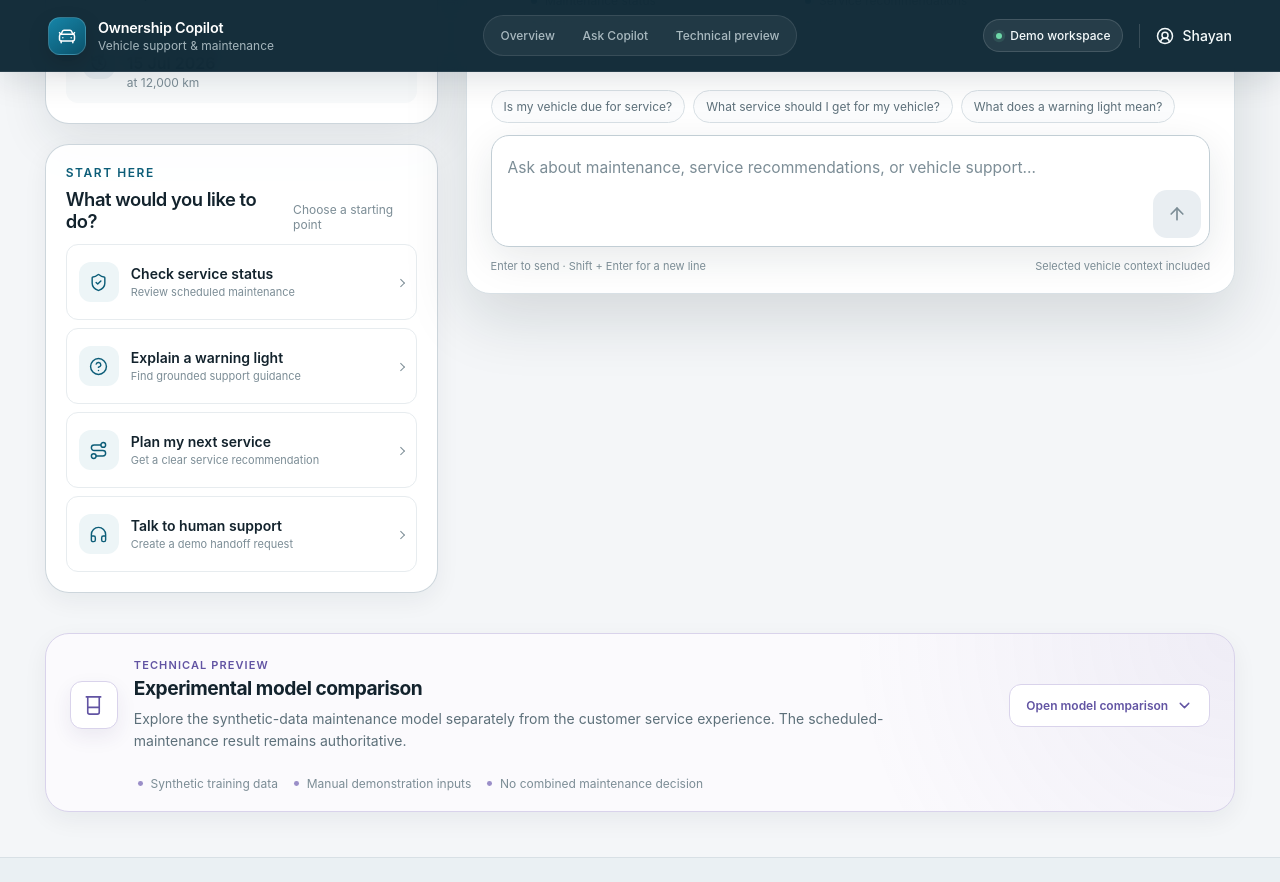
Test: App › uses the dedicated deterministic recommendation card
(page scrolled)
Click the button "Plan my next service Get a clear service recommendation".
click(241, 450)  # box [66, 412, 417, 488]
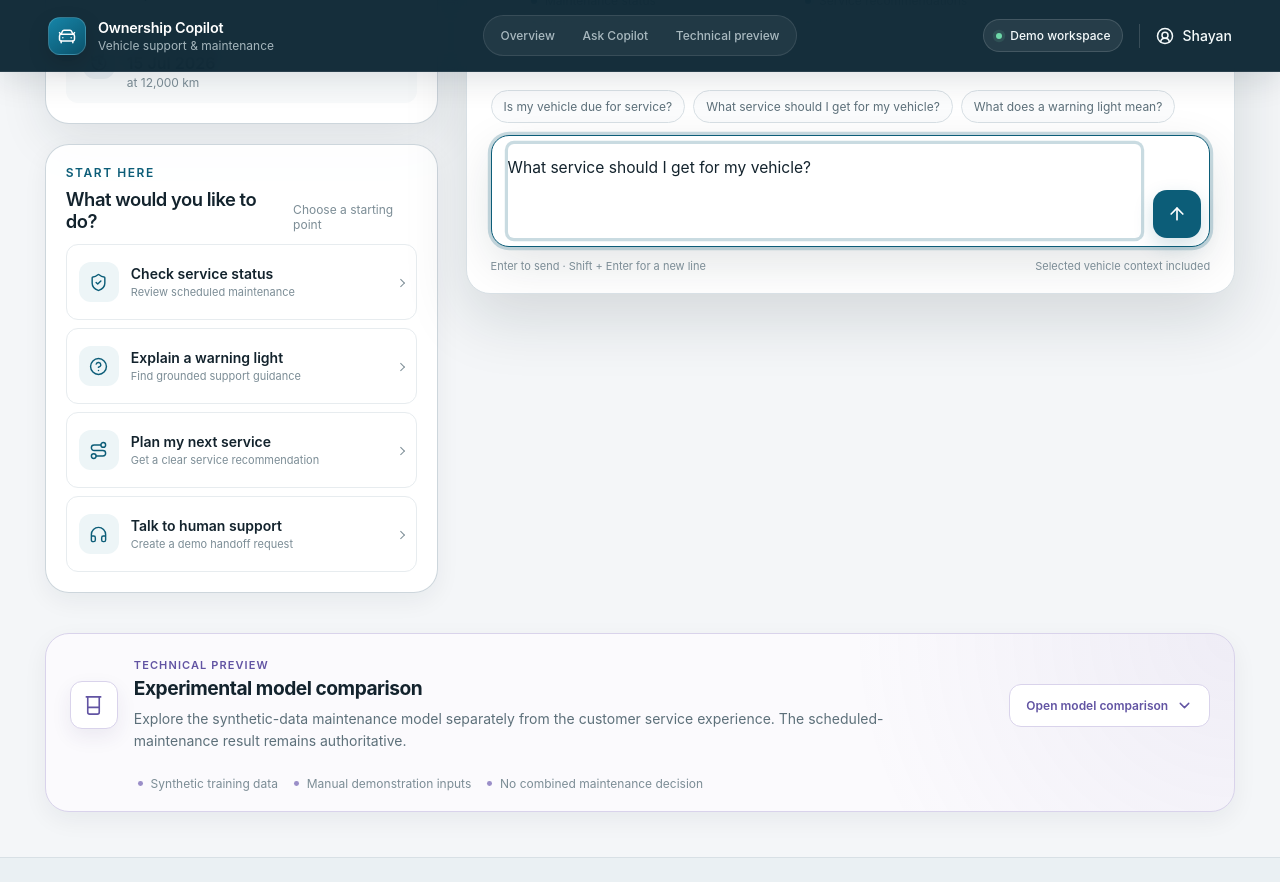
Click the button named "Send question".
click(1177, 214)  # box [1153, 190, 1201, 238]
(page scrolled)
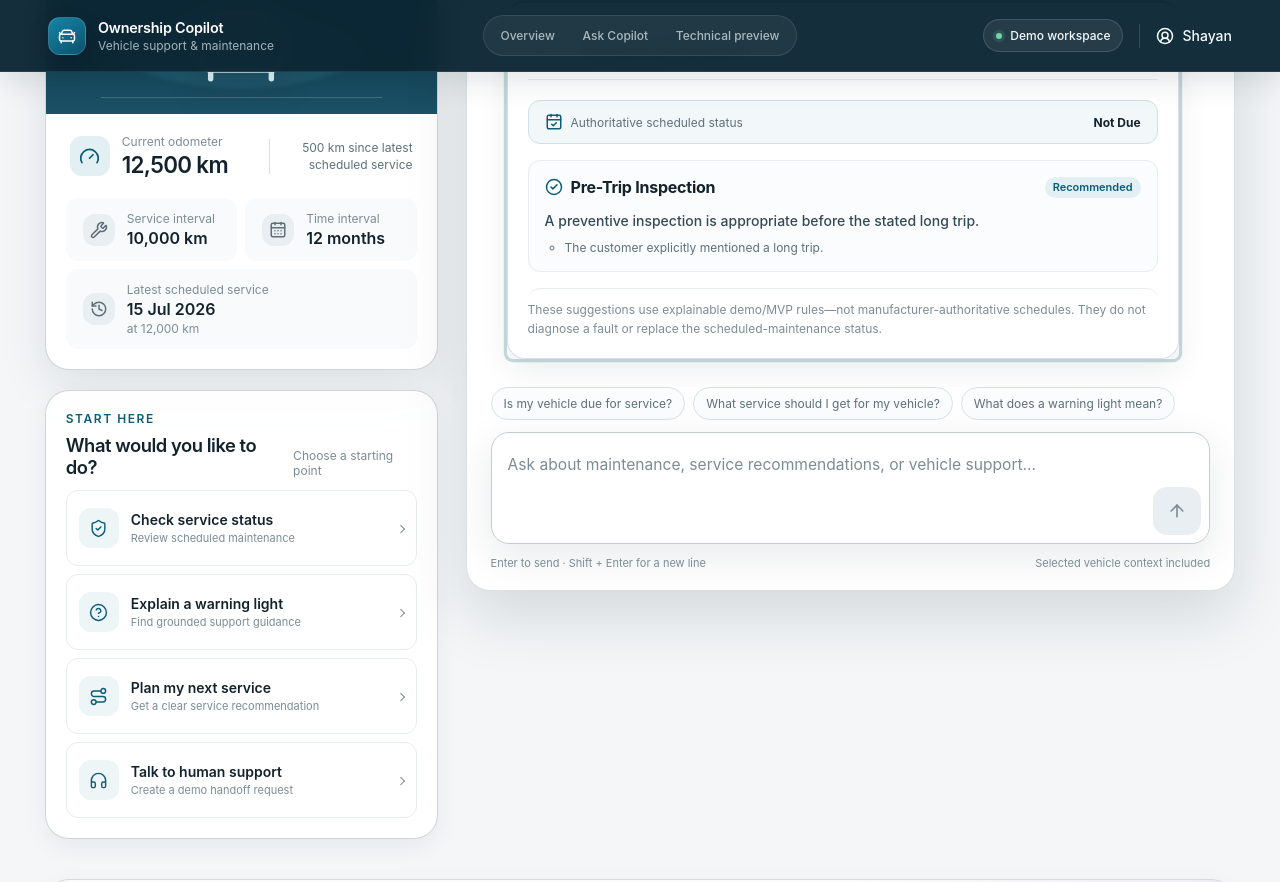
Result: the element named "Deterministic service recommendations" is shown at [507, 0, 1179, 359]
Result: the heading "Pre-Trip Inspection" is shown at [571, 178, 715, 198]
Result: the text "Authoritative scheduled status" is shown at [571, 115, 743, 130]
